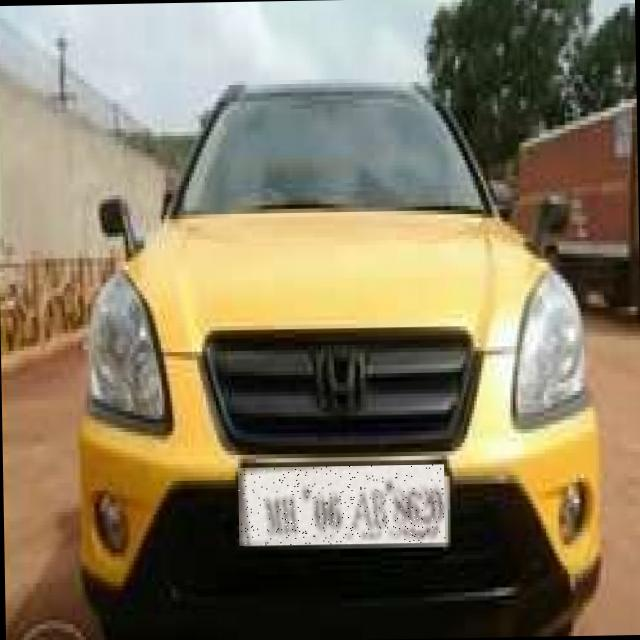Plate: (239, 465, 446, 547)
